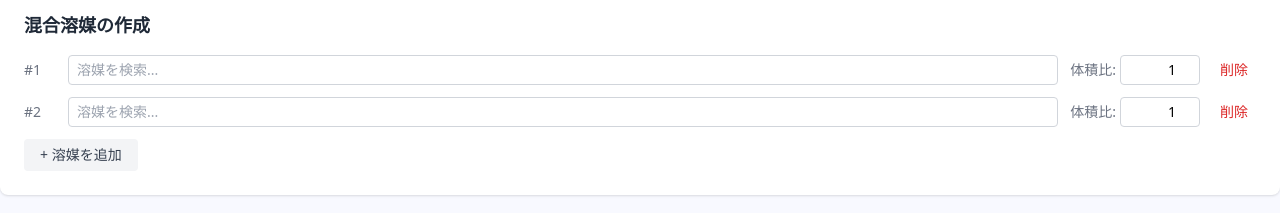
Test: MixtureLab › 最後の1行は削除できない
The image size is (1280, 213).
Note: 1行削除して1行にする
Click the 1st button "削除" at (1234, 70), box left=1212, top=56, right=1256, bottom=84
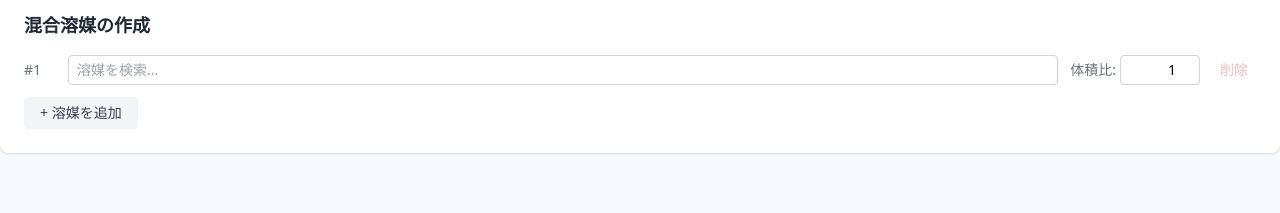
Expected: the number of fields with placeholder "溶媒を検索..." is 1, left=68, top=55, right=1058, bottom=85
Expected: the button "削除" is disabled, left=1212, top=56, right=1256, bottom=84
